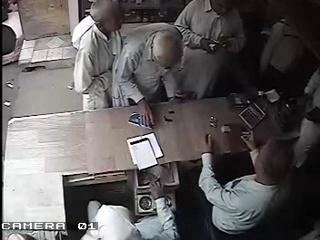Normal: (198, 132, 298, 240), (111, 23, 184, 127), (172, 0, 247, 100), (80, 176, 180, 240)
shoplifting: (72, 0, 125, 111)
